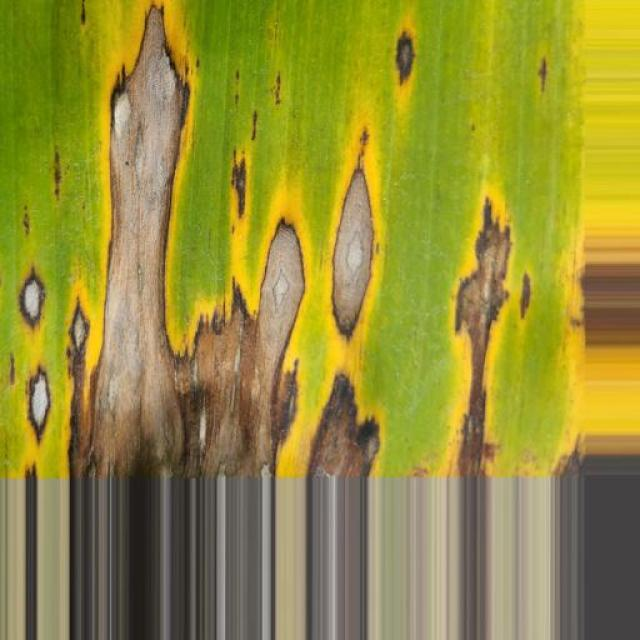Early_rust: (0, 0, 600, 492)
